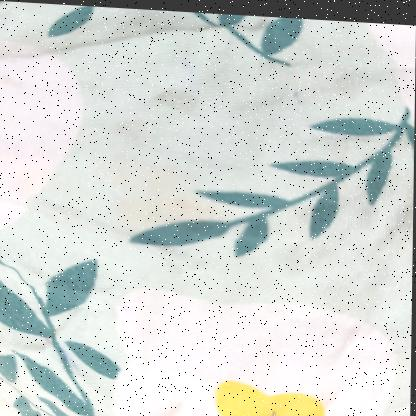spot: (139, 81, 208, 112), (57, 349, 86, 370)
